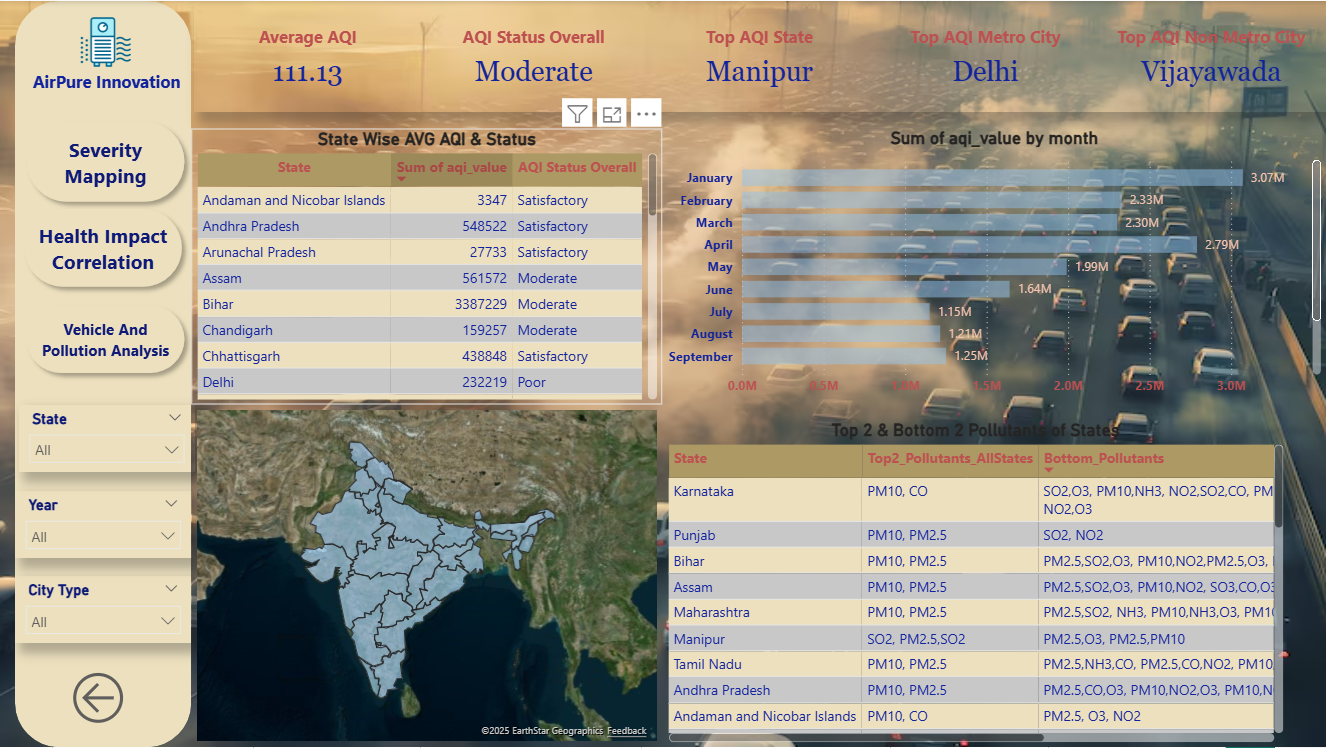

The dashboard page shown, as its layout file describes it:
{"tool":"powerbi","page":{"name":"Air Quality Dashboard","canvas":[1280,720],"ordinal":1},"visuals":[{"type":"shape","box":[14.5,0,170.1,720.2],"z":0},{"type":"image","box":[66.4,0,71.2,79.6],"z":1000},{"type":"textbox","box":[26.5,61.5,170.1,45.8],"z":2000},{"type":"shape","box":[16.9,107.4,170.1,95.3],"z":3000},{"type":"shape","box":[14.5,191.8,170.1,92.9],"z":4000},{"type":"shape","box":[16.9,284.7,170.1,83.2],"z":5000},{"type":"slicer","fields":{"Values":["aqi.year"]},"box":[14.5,472.9,170.1,65.1],"z":6000},{"type":"slicer","fields":{"Values":["aqi.city type"]},"box":[14.5,555,170.1,65.1],"z":7000},{"type":"slicer","fields":{"Values":["aqi.state"]},"box":[18.1,389.7,170.1,65.1],"z":8000},{"type":"cardVisual","fields":{"Data":["Key Measures.Average AQI","Key Measures.AQI Status Overall","Key Measures.Top AQI State","Key Measures.Top AQI Metro City","Key Measures.Top AQI Non Metro City"]},"box":[187,0,1093,107.4],"z":9000},{"type":"tableEx","title":"State Wise AVG AQI & Status","fields":{"Values":["aqi.state","Sum(aqi.aqi_value)","Key Measures.AQI Status Overall"]},"box":[184.6,123.1,454.8,266.6],"z":10000},{"type":"tableEx","title":"Top 2 & Bottom 2 Pollutants of States","fields":{"Values":["Pollutant_List.state","Key Measures.Top2_Pollutants_AllStates","Key Measures.Bottom2_Pollutants_AllStates"]},"box":[639.4,404.2,604.4,316.1],"z":11000},{"type":"barChart","fields":{"Category":["aqi.month"],"Y":["Sum(aqi.aqi_value)"]},"box":[639.4,121.9,640.6,267.8],"z":12000},{"type":"azureMap","fields":{"Category":["aqi.State"]},"box":[186,390,453,330],"z":13000},{"type":"actionButton","box":[63.9,641.8,71.2,61.5],"z":14000}]}

Visuals, with their boxes in screenshot pixels (x1, y1, x2, y2), scaled from the page's 1280x720 canvas onto the 1326x748 screenshot:
shape: [x1=15, y1=0, x2=191, y2=747]
image: [x1=69, y1=0, x2=143, y2=83]
textbox: [x1=27, y1=64, x2=204, y2=111]
shape: [x1=18, y1=112, x2=194, y2=211]
shape: [x1=15, y1=199, x2=191, y2=296]
shape: [x1=18, y1=296, x2=194, y2=382]
slicer - aqi.year: [x1=15, y1=491, x2=191, y2=559]
slicer - aqi.city type: [x1=15, y1=577, x2=191, y2=644]
slicer - aqi.state: [x1=19, y1=405, x2=195, y2=472]
cardVisual - Key Measures.Average AQI x Key Measures.AQI Status Overall: [x1=194, y1=0, x2=1325, y2=112]
"State Wise AVG AQI & Status" tableEx: [x1=191, y1=128, x2=662, y2=405]
"Top 2 & Bottom 2 Pollutants of States" tableEx: [x1=662, y1=420, x2=1288, y2=747]
barChart - aqi.month x Sum(aqi.aqi_value): [x1=662, y1=127, x2=1325, y2=405]
azureMap - aqi.State: [x1=193, y1=405, x2=662, y2=747]
actionButton: [x1=66, y1=667, x2=140, y2=731]
